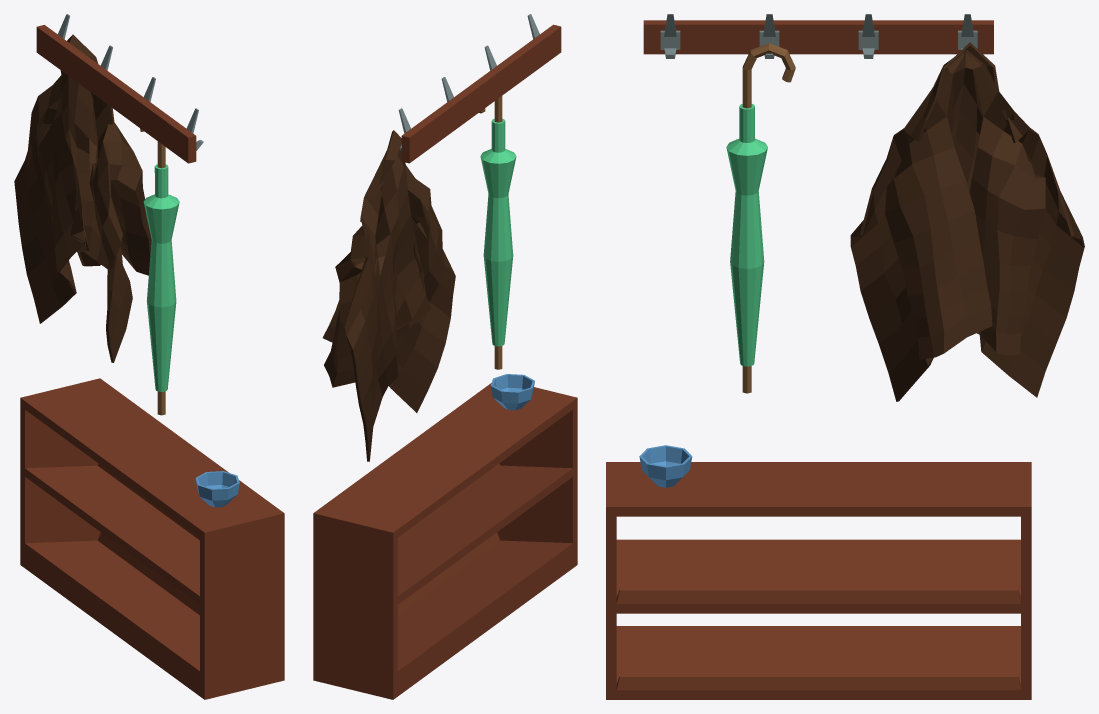
File: shoe_rack.fbx
3 renders of one model, left to right at view 1: azimuth 30°, elevation 25°; view 2: azimuth 150°, elevation 25°; view 3: azimuth 270°, elevation 25°, orthographic. The views are drawn at different scales.
Parts seen in each view (by area): view 1: Cube, Cylinder, hanger, fabric, key_bowl, umbrella; view 2: Cube, Cylinder, hanger, fabric, key_bowl, umbrella; view 3: Cube, Cylinder, hanger, fabric, key_bowl, umbrella.
Boxes of the visible parts, <box> form: Cube: <box>20,378,284,699</box>; Cylinder: <box>14,34,151,362</box>; hanger: <box>36,25,196,163</box>; fabric: <box>143,164,179,391</box>; key_bowl: <box>195,471,239,507</box>; umbrella: <box>140,128,165,415</box>; Cube: <box>313,383,577,699</box>; Cylinder: <box>322,130,455,461</box>; hanger: <box>401,24,561,163</box>; fabric: <box>480,118,516,346</box>; key_bowl: <box>491,374,534,410</box>; umbrella: <box>479,96,502,369</box>; Cube: <box>606,462,1031,699</box>; Cylinder: <box>850,42,1084,401</box>; hanger: <box>643,20,993,54</box>; fabric: <box>726,104,767,366</box>; key_bowl: <box>639,445,692,487</box>; umbrella: <box>742,43,795,393</box>.
Bounding box in the file's own units: 0.3848 × 2.03 × 1.35.
